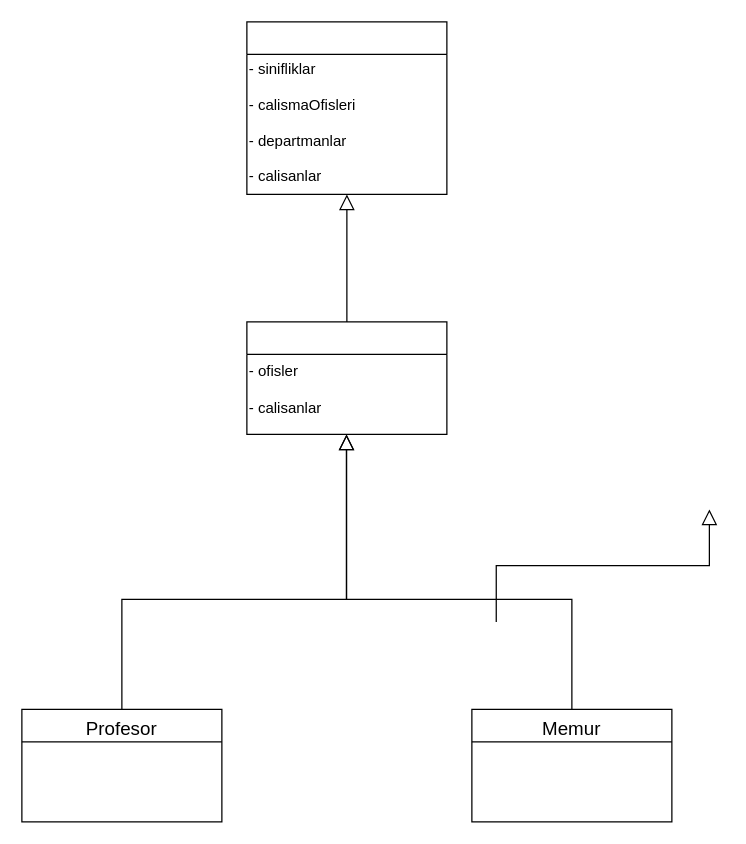
Image size: 746x844. Some labels were removed from this diagram. Here are the shapes that lost their labels. From the top down, the box of each, then its label:
(246, 21, 447, 194): Universite
(246, 321, 447, 434): Departman
